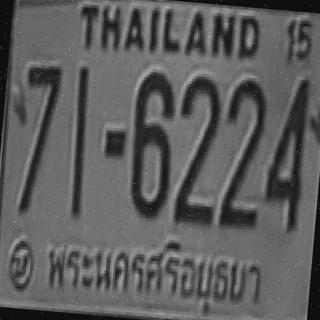N02: (216, 77, 268, 215), (171, 73, 222, 211), (172, 89, 221, 224)
N04: (261, 74, 310, 228)
N06: (124, 68, 177, 217)
N07: (14, 61, 61, 212)
P03: (34, 221, 270, 320)
